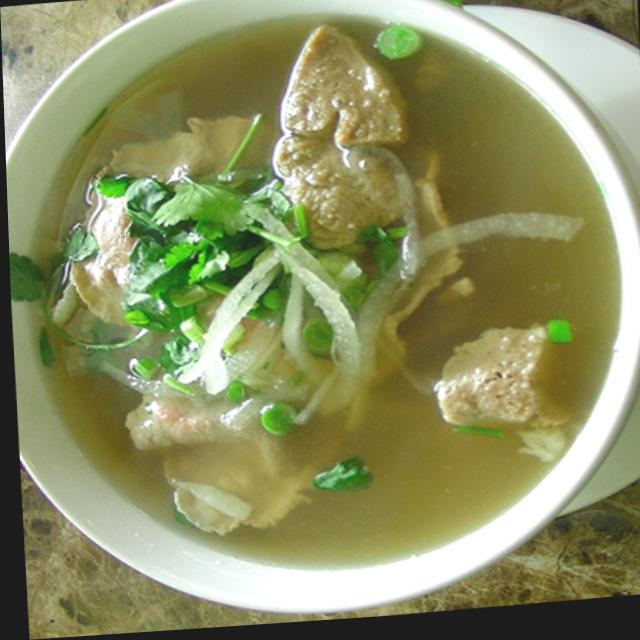面条主食: (1, 0, 639, 617)
